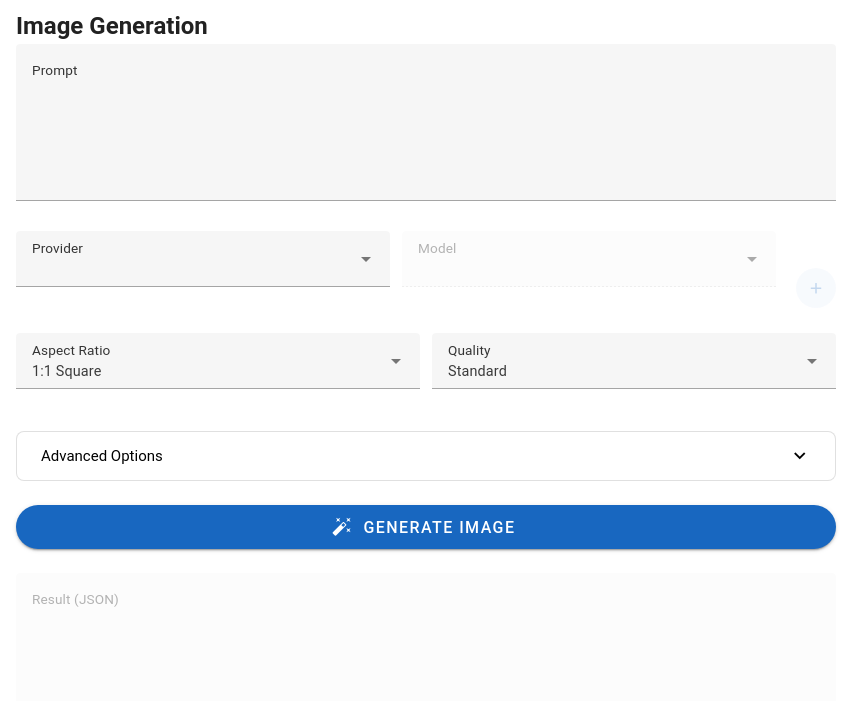
Test: ImagePanel › shows error status on failure
Click the button "Generate Image" at (426, 528), box [16,506,836,550]
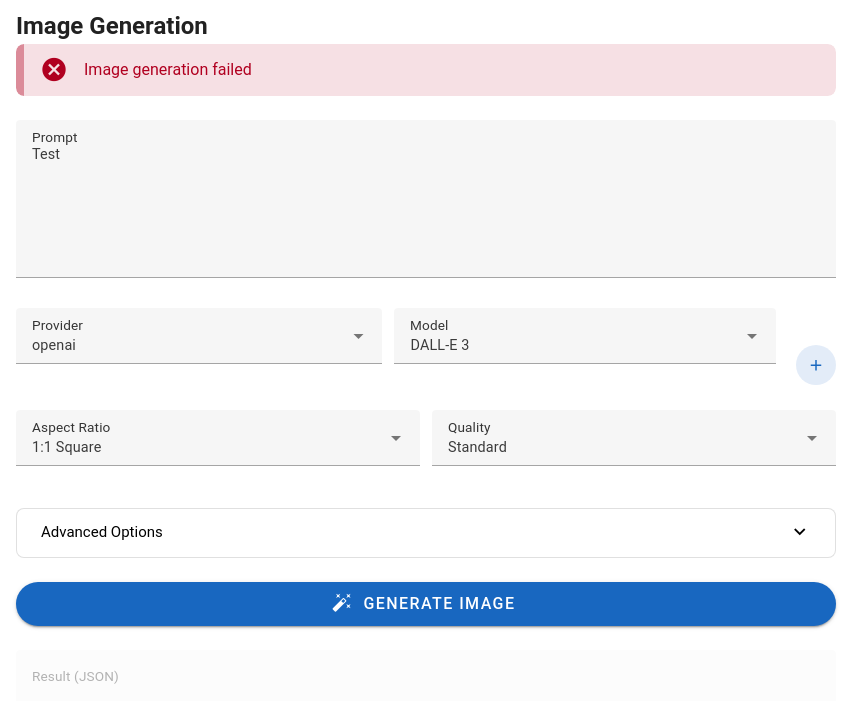
Now the text "Image generation failed" is shown, box [84,60,252,79]
